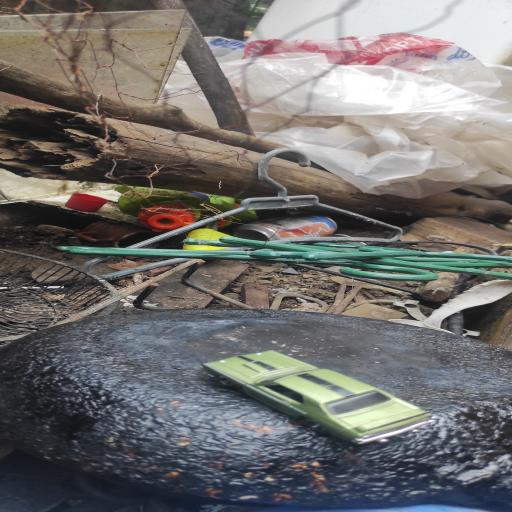Carrito: (203, 350, 435, 444)
